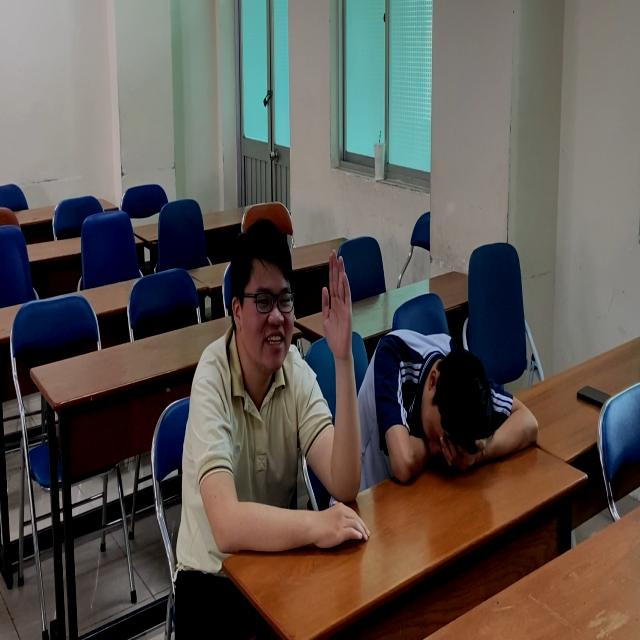raise_hand: (190, 225, 368, 572)
sleep: (365, 312, 548, 505)
